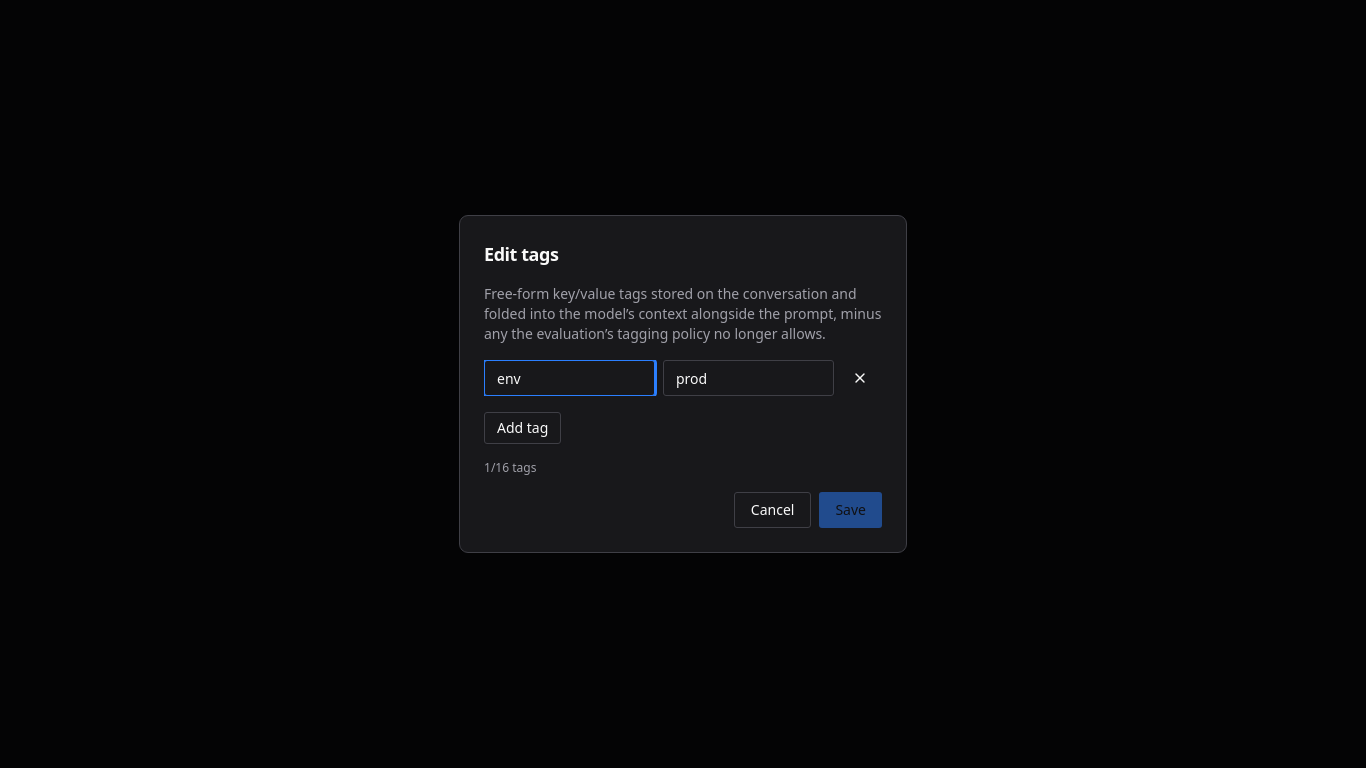
Test: EditTagsDialog — a write in flight › falls back to a toast when the dialog is gone before the failure lands
Replace the text in the field named "Tag 1 value" with "staging". click: coordinates (748, 378)
box: 663,360 -> 834,396
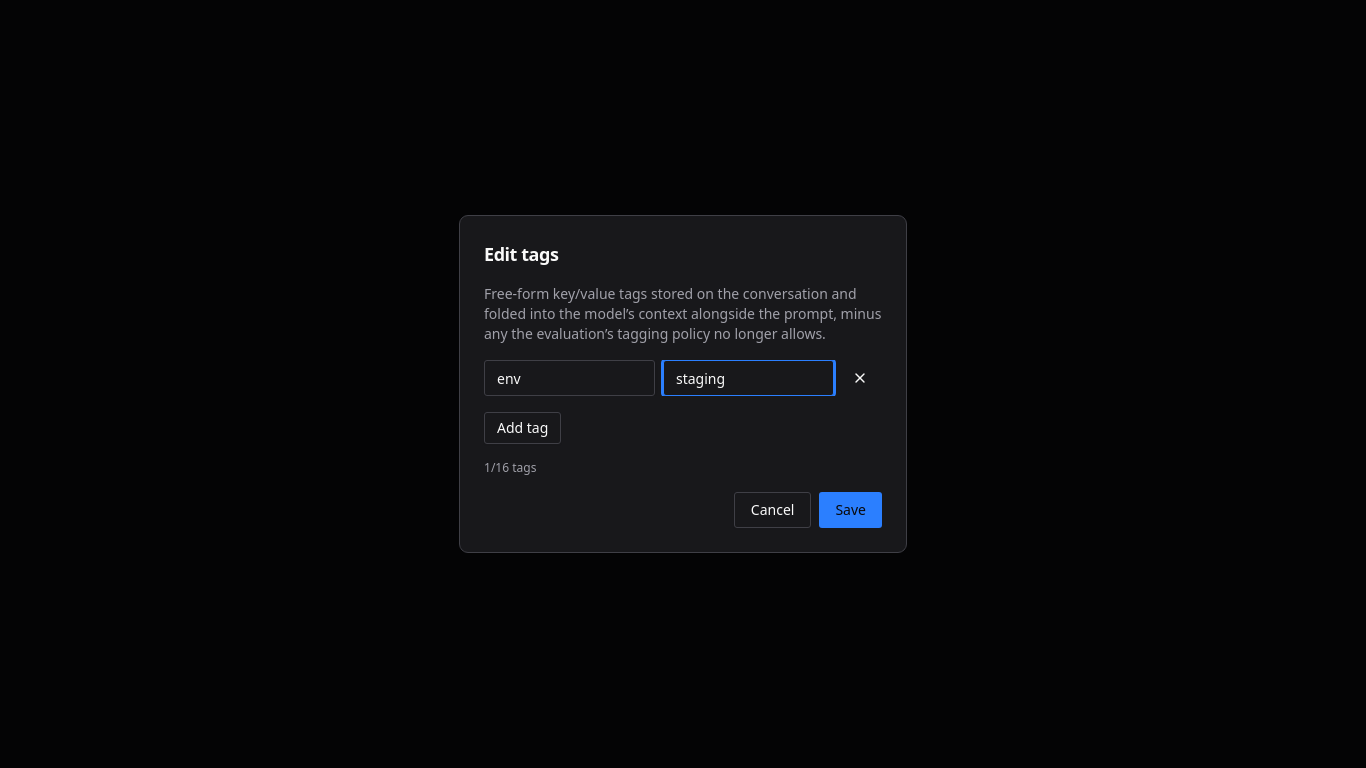
Click the button "Save". click: coordinates (851, 510)
box: 819,492 -> 882,528
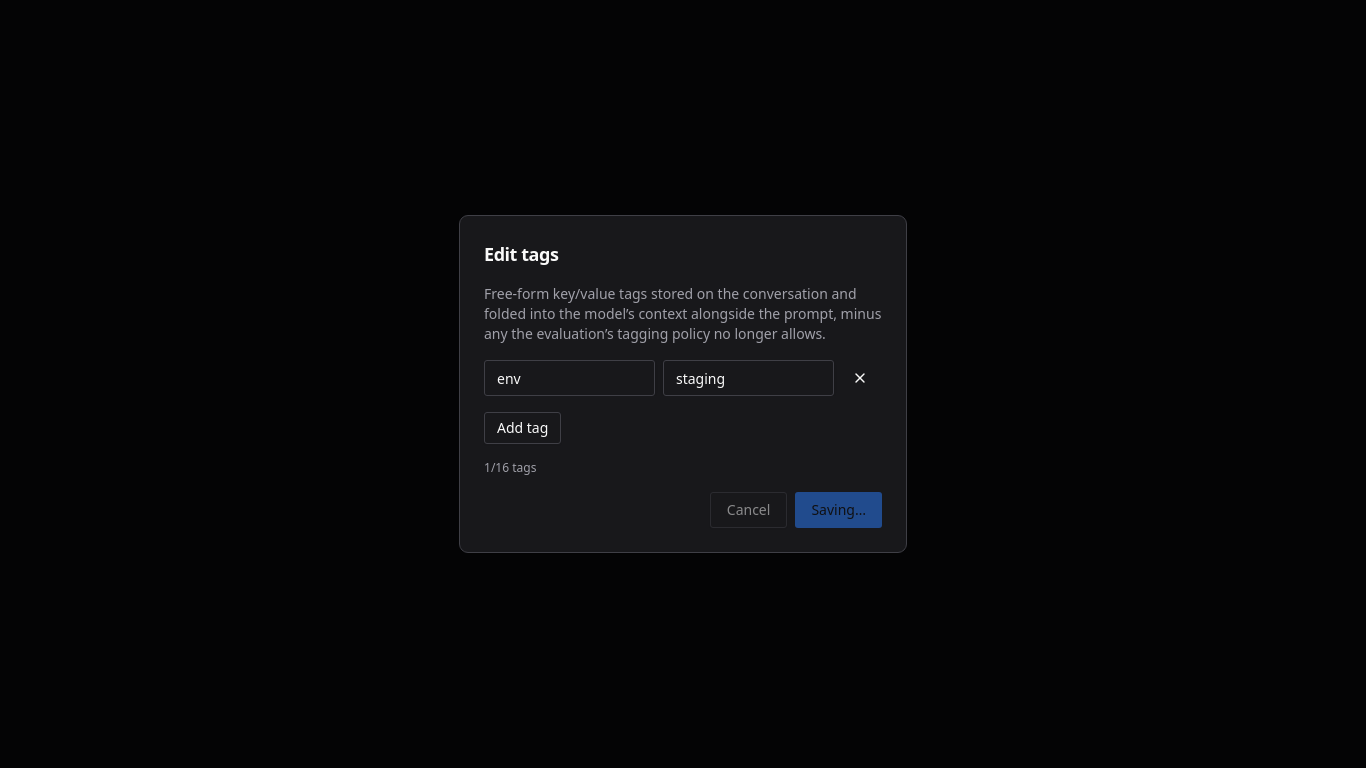
Expected: the button "Saving…" is disabled, 795,492 -> 882,528
